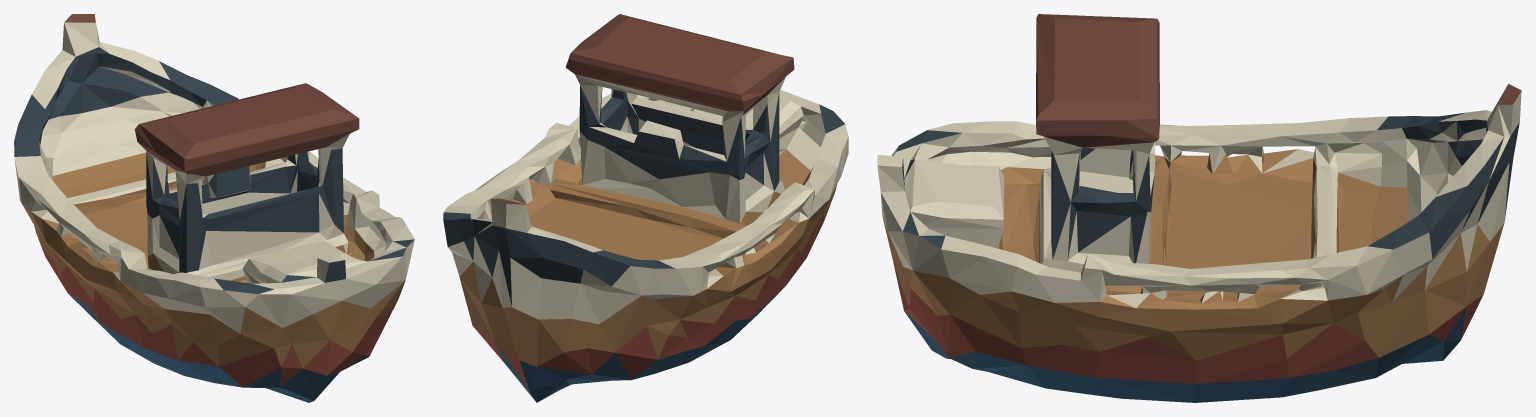
File: ghe_may.glb
3 views of the same model, side by side, from view 1: azimuth 30°, elevation 25°; view 2: azimuth 150°, elevation 25°; view 3: azimuth 270°, elevation 25° (orthographic). The views are drawn at different scales.
Parts seen in each view (by area): view 1: ghe_may; view 2: ghe_may; view 3: ghe_may.
Part boxes in pixels (<box>): ghe_may: <box>14,14,414,402</box>; ghe_may: <box>443,14,848,402</box>; ghe_may: <box>877,14,1521,402</box>.
Size of the model in its own units: 1.72 by 1.65 by 3.05.
